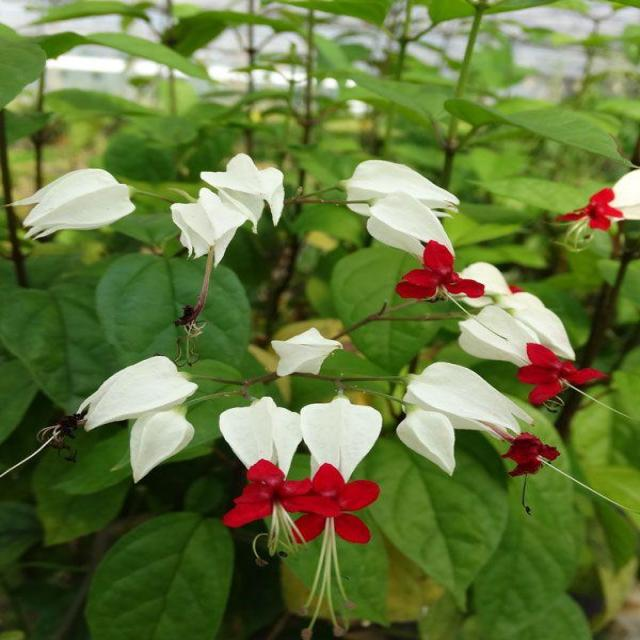organic waste: (379, 263, 591, 375), (76, 344, 196, 483), (342, 158, 480, 251), (414, 359, 544, 447), (228, 387, 303, 537), (17, 168, 144, 240), (310, 388, 400, 489), (207, 151, 300, 231), (186, 183, 263, 267), (268, 318, 337, 368)
